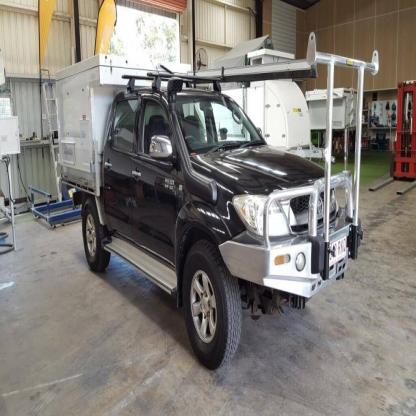light_vehicle: (49, 47, 378, 374)
